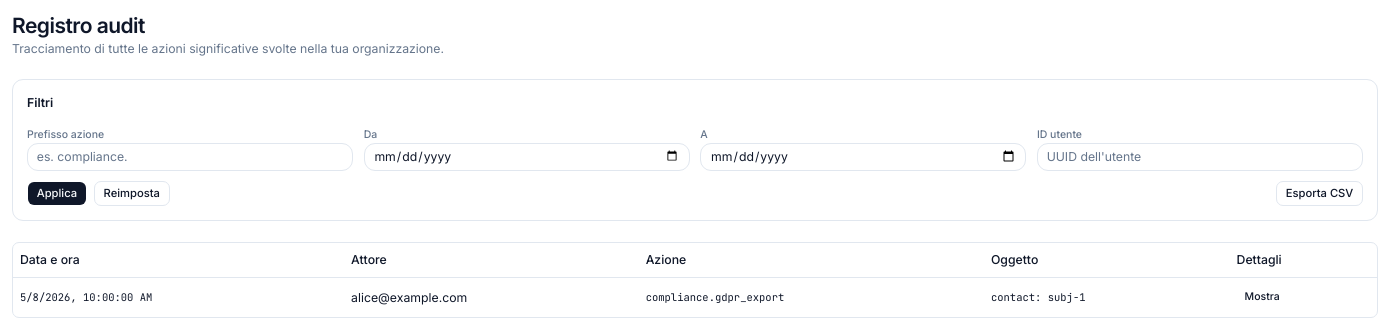
Scenario: AuditLogPageClient › reloads with filters when "Applica" is clicked
In the field labelled "Prefisso azione": (190, 156) [27, 142, 353, 170], type "compliance."
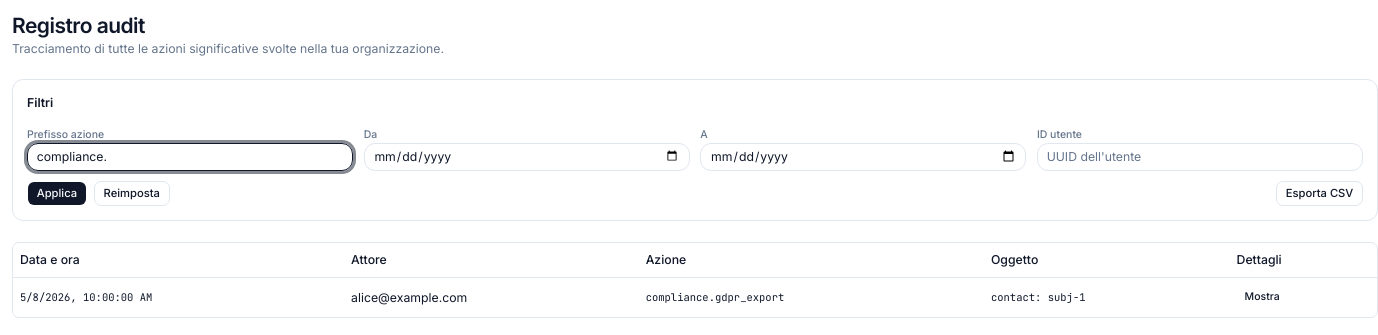
Click the button "Applica": (57, 193) [27, 181, 87, 206]
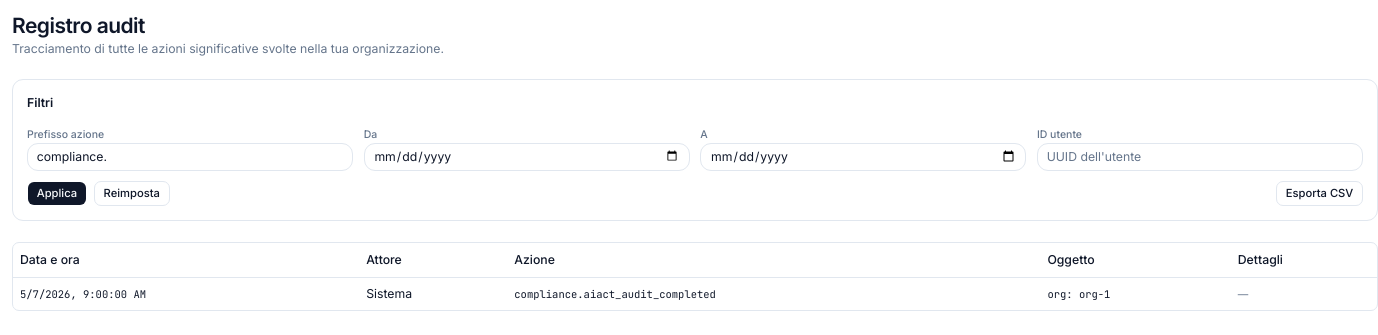
Check: the text "compliance.aiact_audit_completed" is shown, box [507, 278, 1040, 310]
